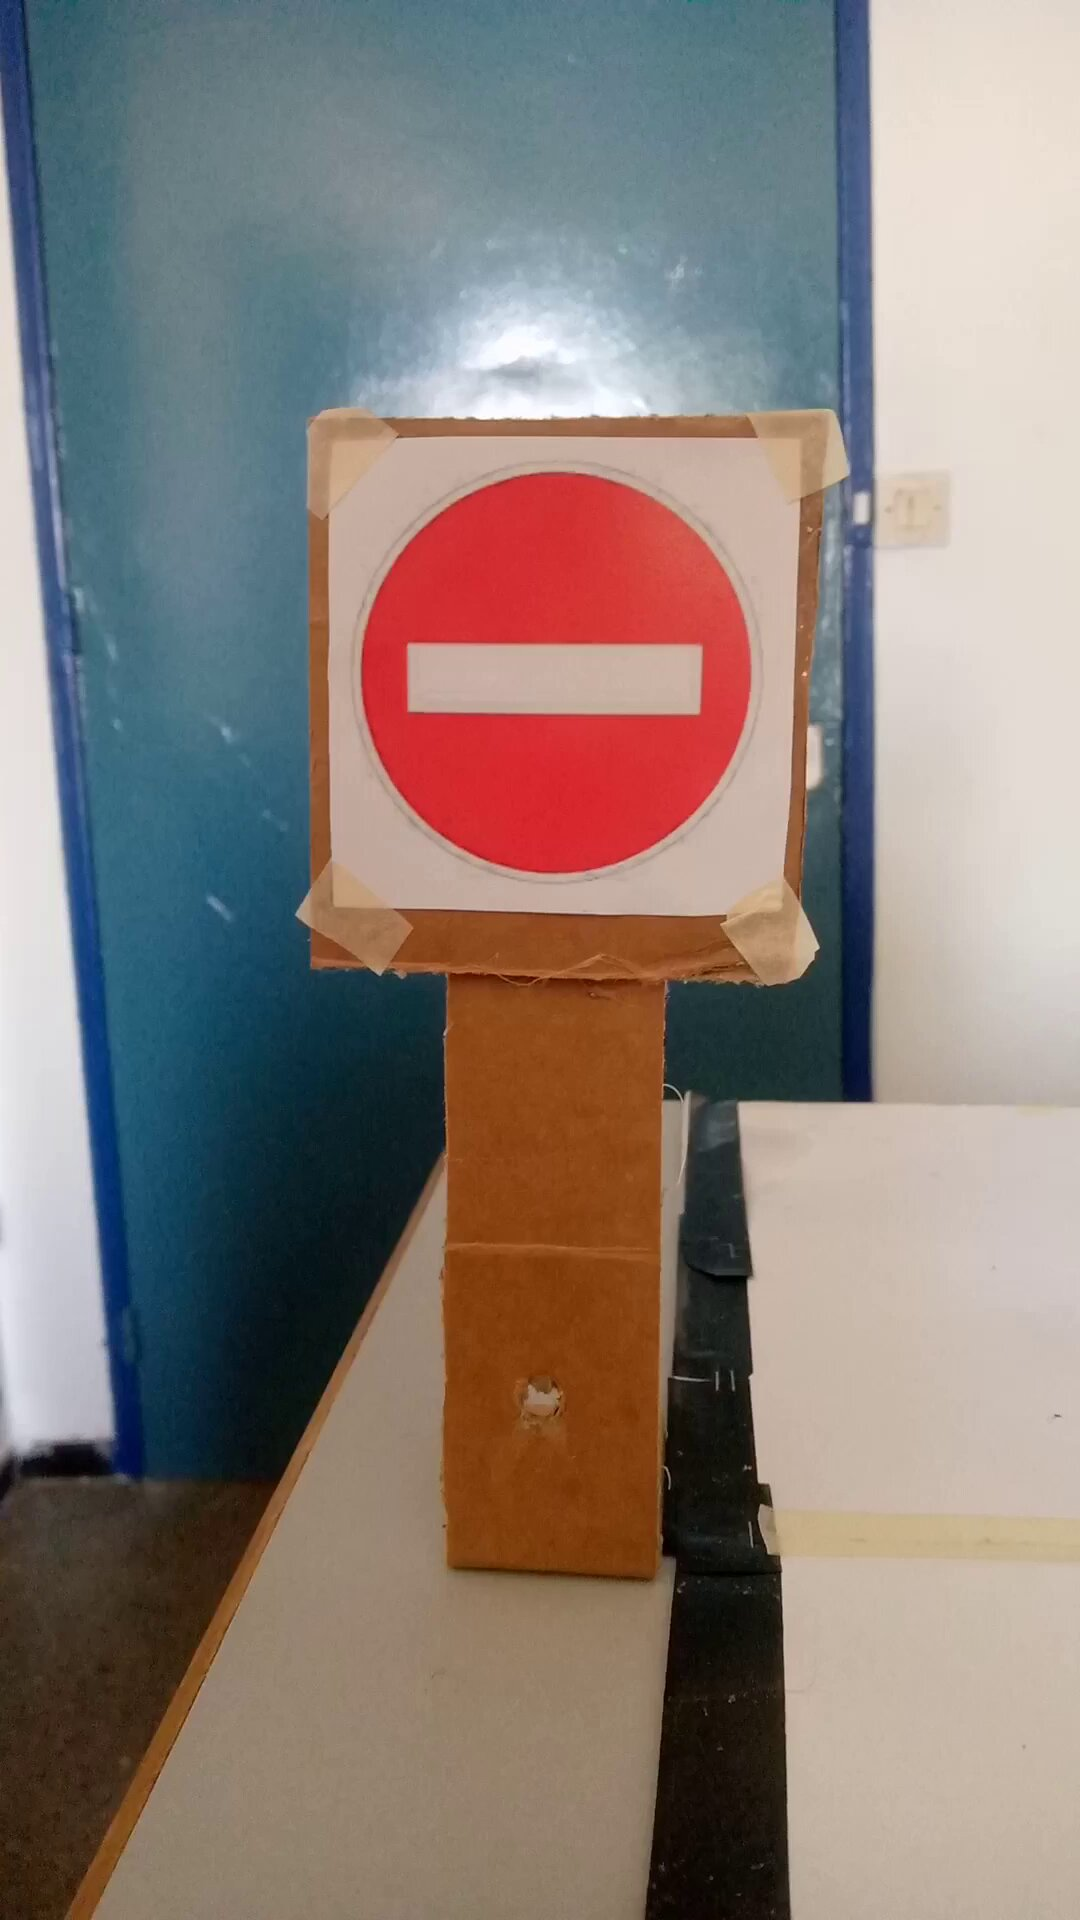panel010: (320, 446, 790, 931)
